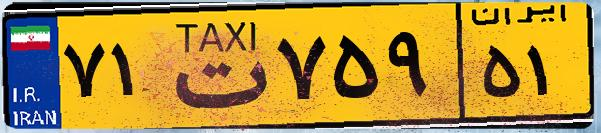1: (525, 38, 570, 115), (110, 28, 158, 98)
5: (330, 28, 385, 110), (475, 38, 525, 113)
7: (270, 28, 330, 110), (57, 26, 110, 100)
9: (385, 28, 445, 110)
ت: (158, 12, 270, 120)
